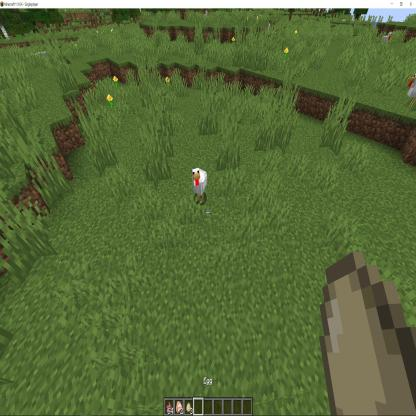minecraft-pigs: (192, 167, 207, 204), (407, 69, 416, 114), (382, 31, 392, 50)
